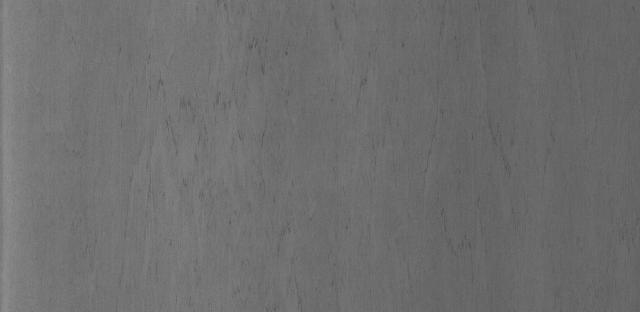silk_spot: (158, 30, 386, 298)
